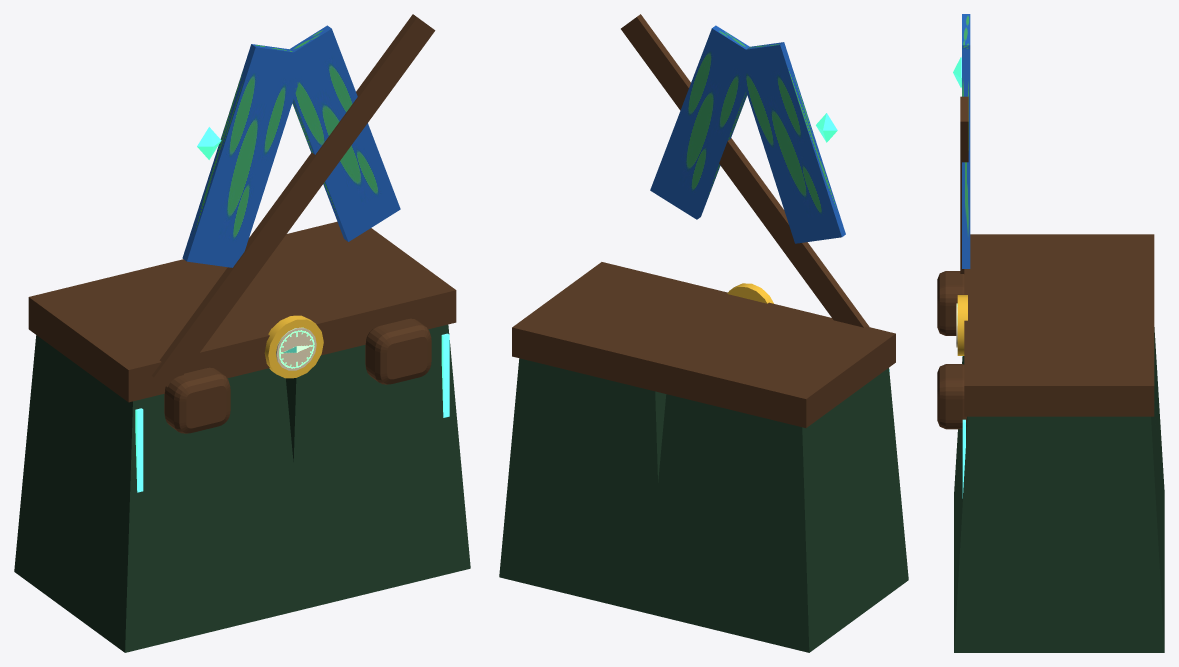
Rendered from eqf_eqsa4.glb.
3 views of the same model, side by side, from view 1: azimuth 30°, elevation 25°; view 2: azimuth 150°, elevation 25°; view 3: azimuth 270°, elevation 25° (orthographic). The views are drawn at different scales.
Size of the model in its own units: 2.24 by 3.52 by 1.34.
8 materials, 3 textured.
